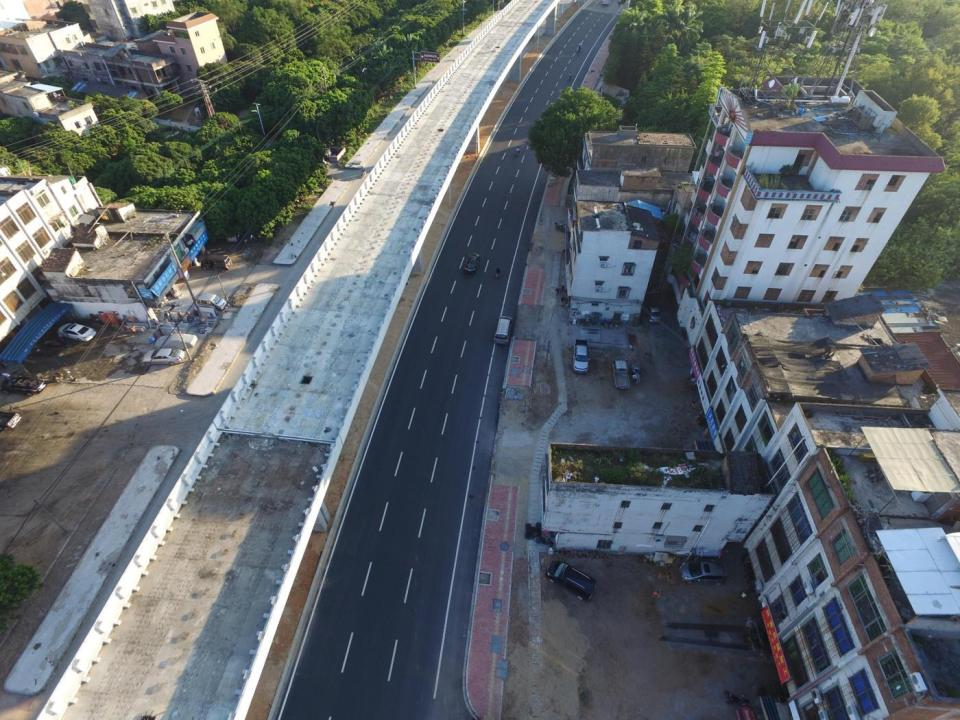car: (679, 561, 727, 586), (0, 376, 47, 397), (56, 321, 96, 343), (141, 348, 185, 366), (154, 332, 197, 350), (463, 252, 480, 274)
truck: (572, 337, 591, 373), (611, 359, 631, 390)
van: (544, 558, 596, 604), (190, 292, 228, 310), (200, 254, 232, 274), (494, 314, 513, 346), (647, 302, 661, 323)
